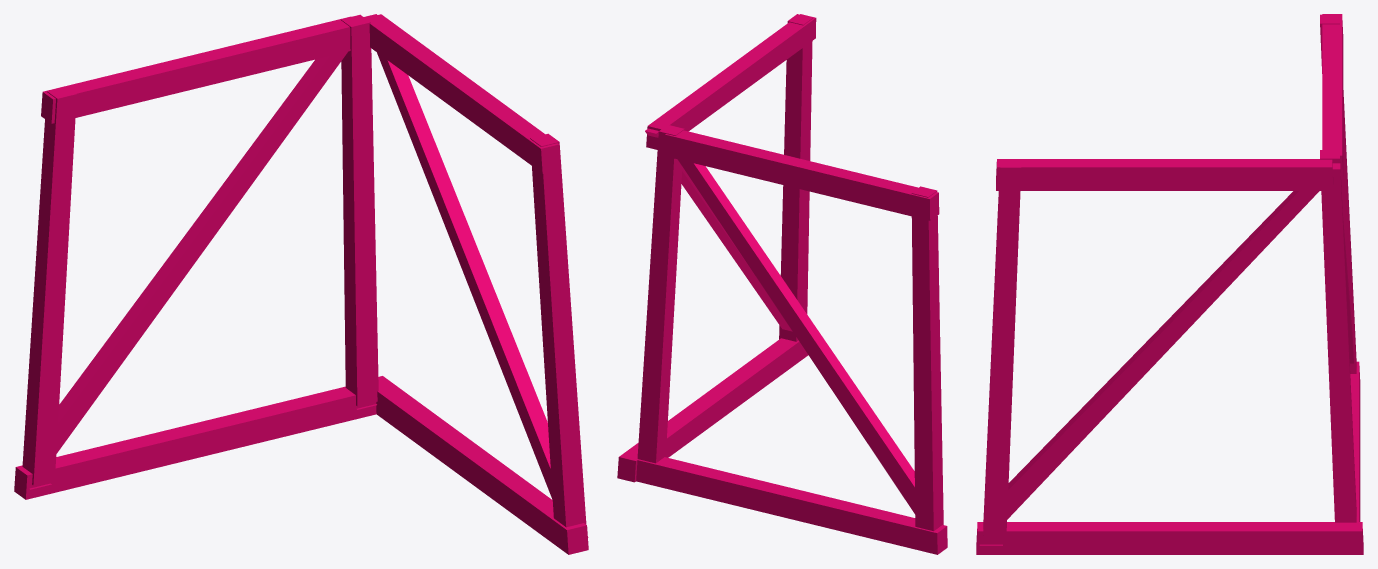
The model's file is Bastion_Pillar_02_Half_Lod0.fbx.
3 renders of one model, left to right at view 1: azimuth 30°, elevation 25°; view 2: azimuth 150°, elevation 25°; view 3: azimuth 270°, elevation 25°, orthographic. The views are drawn at different scales.
Parts seen in each view (by area): view 1: Bastion_Pillar_02_Half_Lod0; view 2: Bastion_Pillar_02_Half_Lod0; view 3: Bastion_Pillar_02_Half_Lod0.
Part boxes in pixels (bbox=[...]): Bastion_Pillar_02_Half_Lod0: bbox=[14, 14, 588, 554]; Bastion_Pillar_02_Half_Lod0: bbox=[617, 14, 947, 554]; Bastion_Pillar_02_Half_Lod0: bbox=[976, 14, 1363, 554].
Bounding box in the file's own units: 301 × 310 × 287.
